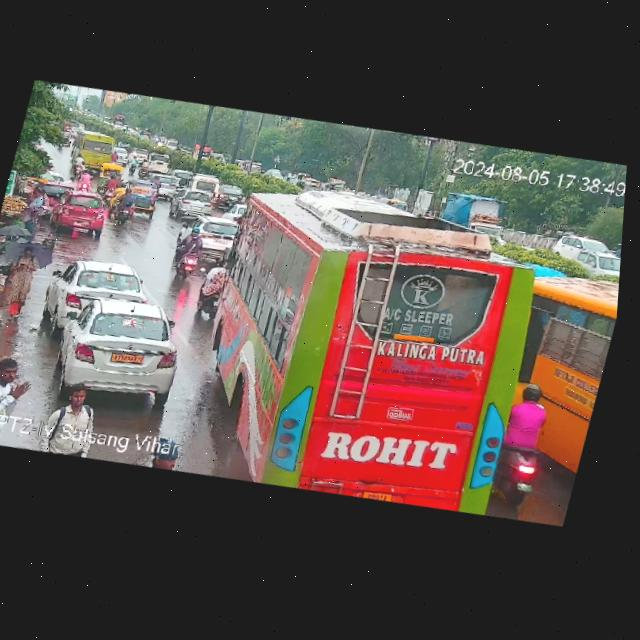bus: (175, 169, 558, 529), (490, 266, 620, 480), (69, 126, 118, 170)
car: (45, 287, 192, 408), (43, 249, 153, 331), (178, 211, 244, 254), (52, 189, 112, 236), (121, 177, 163, 220), (170, 191, 218, 221), (96, 161, 126, 192), (216, 181, 247, 211), (139, 149, 173, 176), (189, 173, 219, 194), (157, 181, 182, 201), (129, 146, 149, 164), (58, 130, 75, 148), (116, 140, 132, 151)
motorcycle: (485, 382, 569, 517), (189, 254, 231, 325), (168, 229, 205, 282), (110, 186, 139, 223), (74, 166, 96, 194), (104, 173, 120, 203), (113, 179, 129, 203), (70, 153, 86, 177), (137, 157, 150, 181), (127, 156, 140, 175)
person: (37, 379, 111, 459), (0, 245, 40, 327), (0, 352, 29, 446), (19, 183, 56, 230), (0, 236, 18, 275)
truck: (441, 185, 524, 245)
